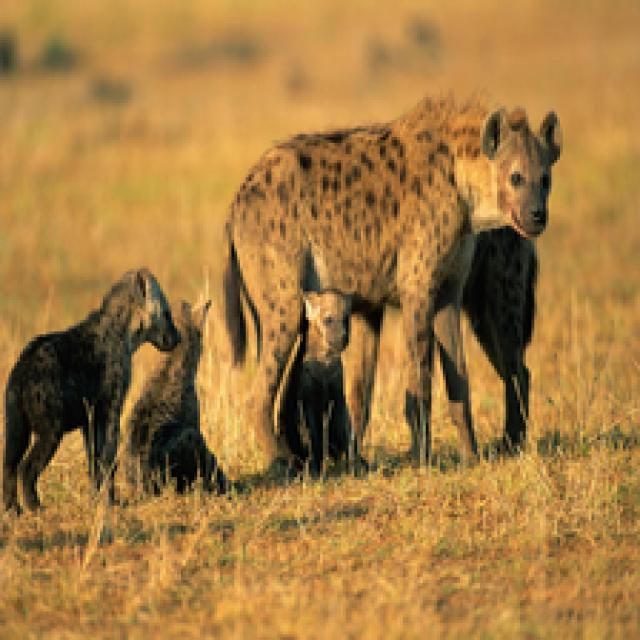hyena: (217, 105, 578, 468), (0, 260, 207, 508), (115, 289, 248, 509), (282, 286, 378, 482)
